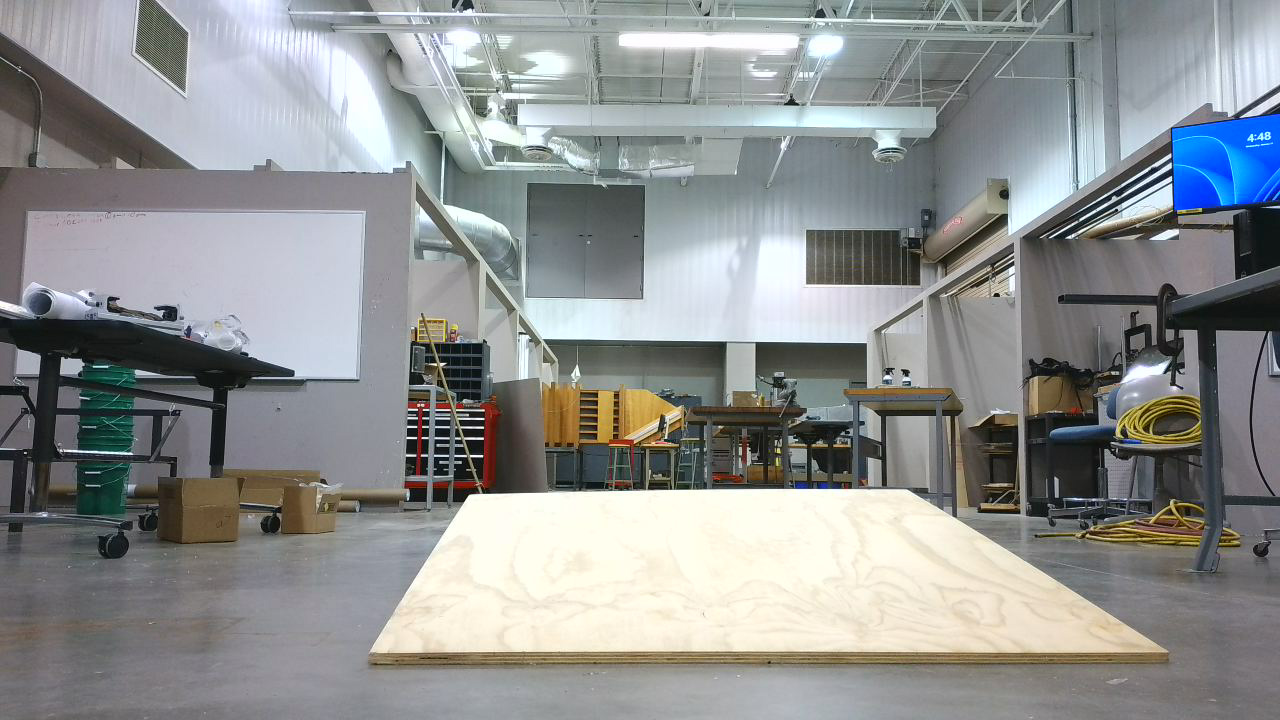ramp: (368, 490, 1178, 673)
